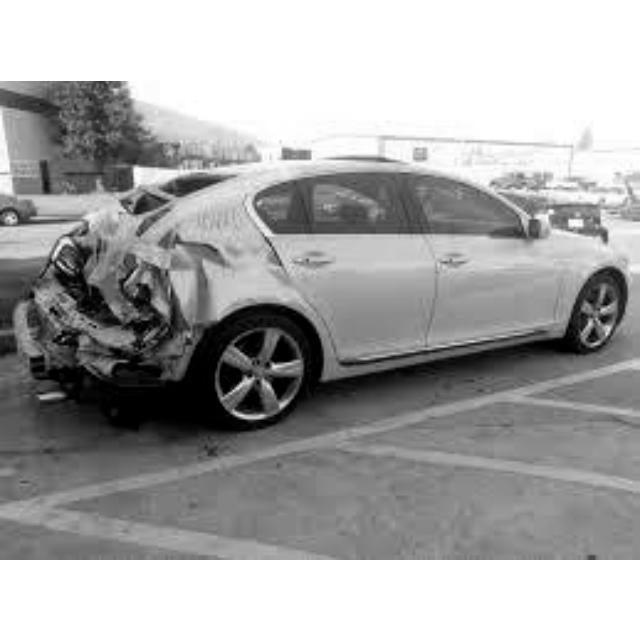boot-dent: (52, 212, 170, 303)
quaterpanel-dent: (163, 227, 279, 320)
rear-bumper-dent: (30, 313, 153, 379)
